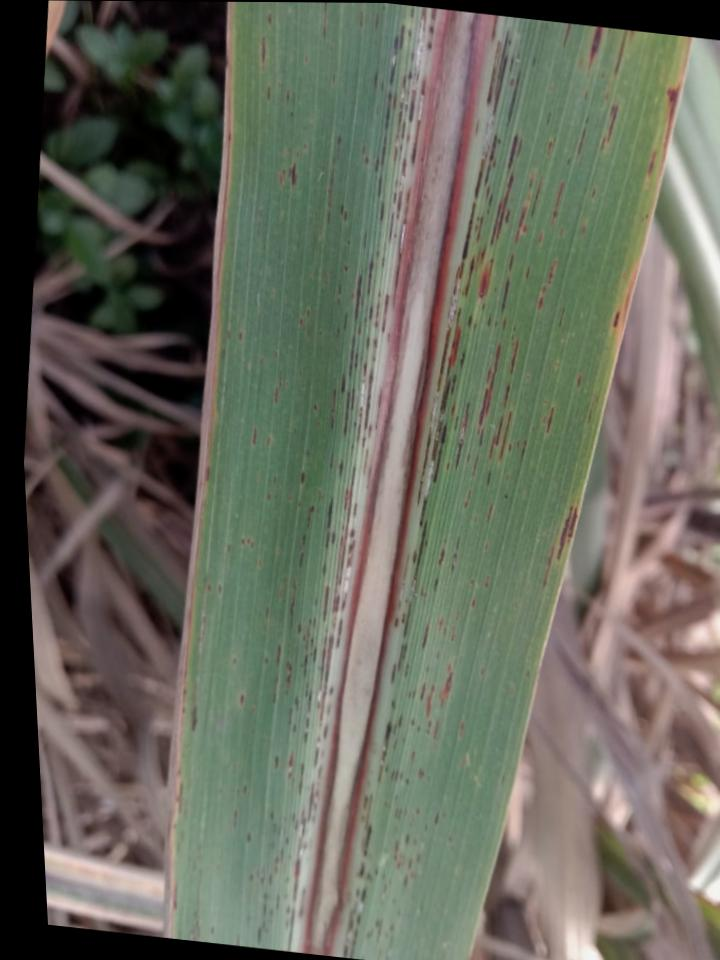RedRot: (298, 9, 500, 957)
Rust: (240, 451, 359, 947), (322, 6, 431, 450), (453, 17, 525, 306), (372, 706, 448, 897), (388, 505, 464, 688), (412, 318, 475, 509), (336, 809, 385, 960), (473, 332, 522, 465), (532, 491, 581, 599), (513, 169, 568, 259), (313, 129, 358, 228), (283, 466, 320, 586), (641, 83, 683, 187), (403, 648, 448, 736), (423, 658, 461, 726), (530, 253, 564, 314), (259, 85, 301, 124), (466, 453, 503, 491), (496, 246, 517, 311), (254, 10, 278, 66), (462, 311, 520, 333), (474, 251, 496, 308), (585, 26, 611, 72), (600, 100, 621, 156), (446, 318, 465, 374), (269, 162, 302, 192), (268, 366, 288, 407), (536, 401, 558, 438), (575, 111, 592, 156), (612, 31, 629, 76), (234, 532, 260, 559), (517, 429, 533, 466), (187, 697, 202, 736), (480, 500, 499, 530), (289, 577, 298, 629), (234, 686, 251, 713), (461, 591, 480, 613), (574, 370, 586, 404), (246, 425, 261, 452), (239, 825, 253, 852), (458, 715, 471, 742), (562, 24, 573, 47)
